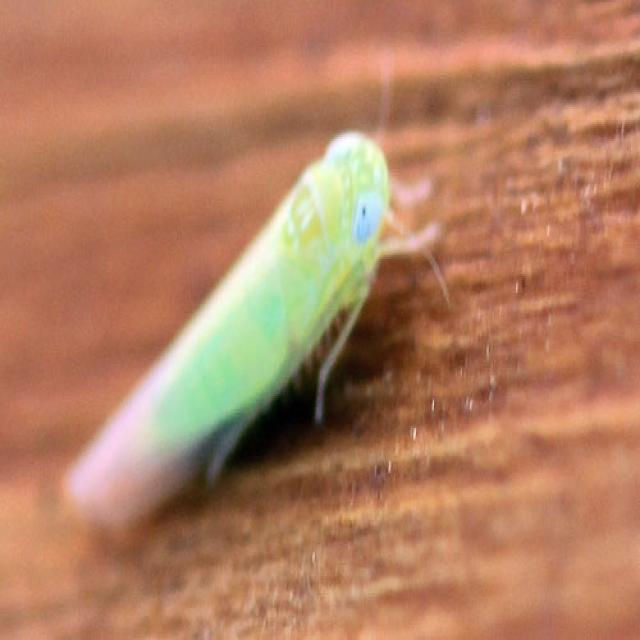Yechan: (68, 120, 433, 563)
